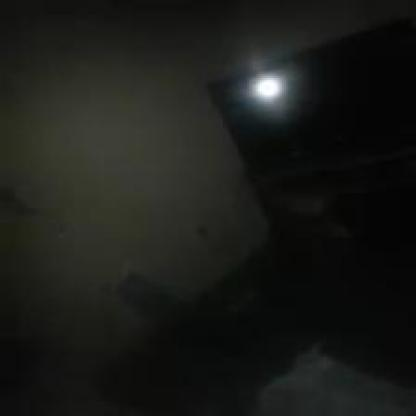other: (246, 59, 296, 111)
